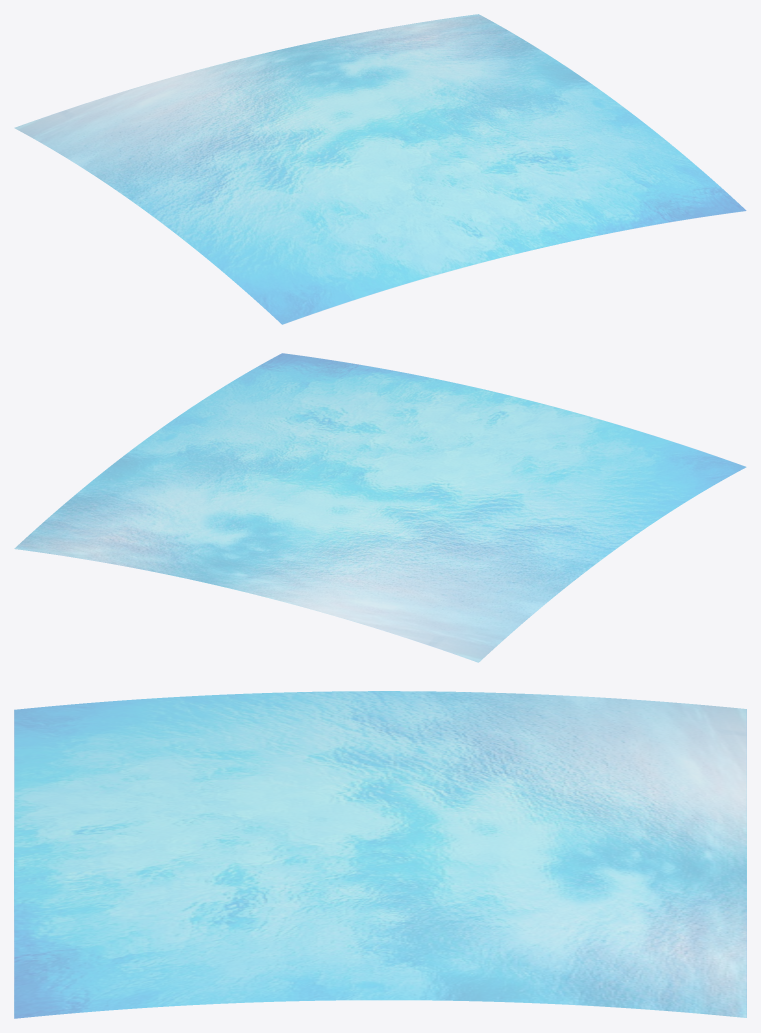
File: sea.fbx
3 renders of one model, top to bottom at view 1: azimuth 30°, elevation 25°; view 2: azimuth 150°, elevation 25°; view 3: azimuth 270°, elevation 25°, orthographic. The views are drawn at different scales.
Parts seen in each view (by area): view 1: 평면.001; view 2: 평면.001; view 3: 평면.001.
Part boxes in pixels (x1,y1,x2,y2): 평면.001: (15,14,746,324); 평면.001: (14,353,745,662); 평면.001: (14,691,746,1018).
Bounding box in the file's own units: 20000 × 1125 × 20000.
1 material, 1 textured.
